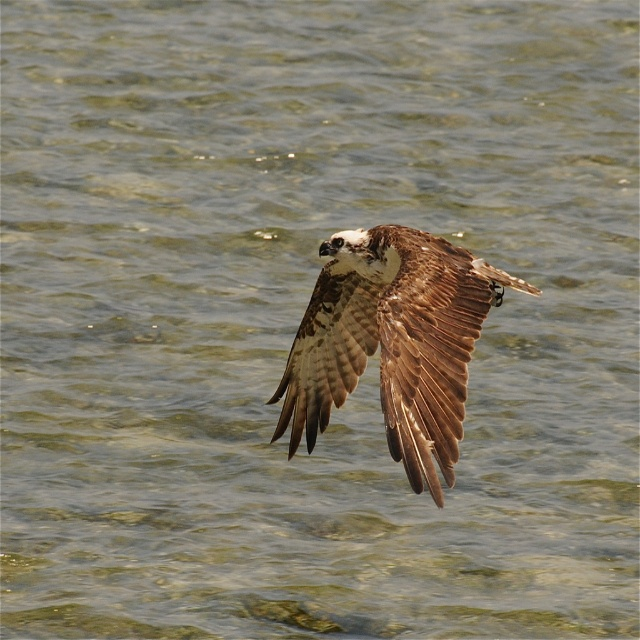Eagle: (266, 228, 544, 511)
